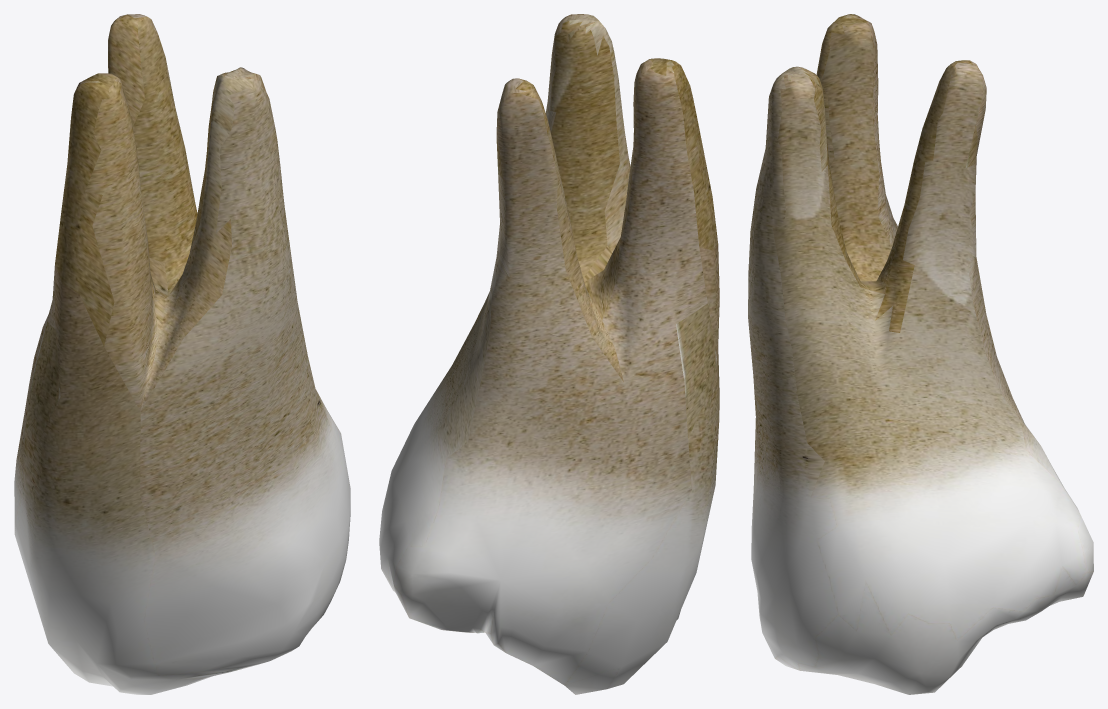
The model's file is хоншоорын 2-р их араа.fbx.
3 views of the same model, side by side, from view 1: azimuth 30°, elevation 25°; view 2: azimuth 150°, elevation 25°; view 3: azimuth 270°, elevation 25° (orthographic). The views are drawn at different scales.
Visible parts, largest first — view 1: polySurface64; view 2: polySurface64; view 3: polySurface64.
Boxes of the visible parts, x1,y1,x2,y2 form: polySurface64: (14,14,350,694); polySurface64: (379,14,719,694); polySurface64: (748,14,1093,694).
Size of the model in its own units: 4.32 by 8.57 by 4.32.
Materials: 1 (1 with a texture image).
